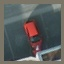car: (24, 19, 40, 52)
